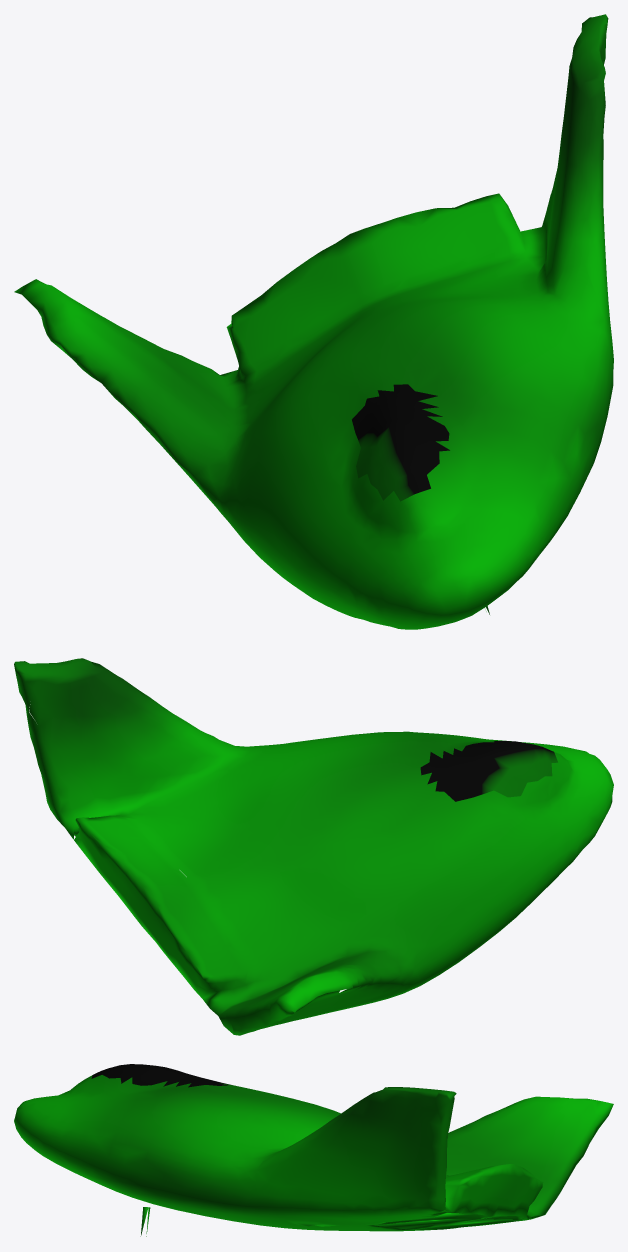
The model's file is lifeboatrusted.glb.
The picture shows the model from 3 angles, top to bottom: view 1: azimuth 30°, elevation 25°; view 2: azimuth 150°, elevation 25°; view 3: azimuth 270°, elevation 25°; orthographic projection. The views are drawn at different scales.
Visible parts, largest first — view 1: lod0; view 2: lod0; view 3: lod0.
Boxes of the visible parts, bbox=[...] form: lod0: bbox=[14, 14, 613, 629]; lod0: bbox=[14, 658, 613, 1035]; lod0: bbox=[14, 1064, 613, 1236].
Size of what is drawn, in the model's own units: 3.9 by 2.84 by 5.75.
